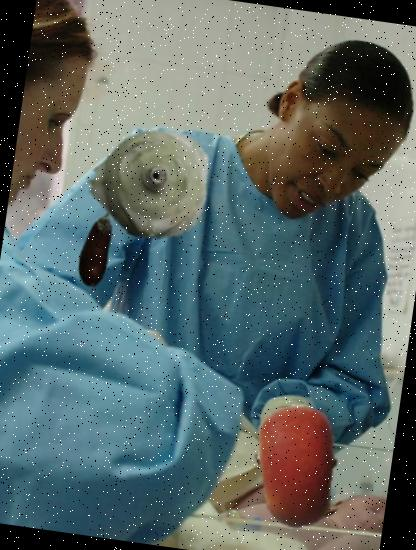Eggplant: (52, 205, 140, 294)
Kohlrabi: (80, 111, 220, 252)
Nectarine: (225, 397, 365, 537)
